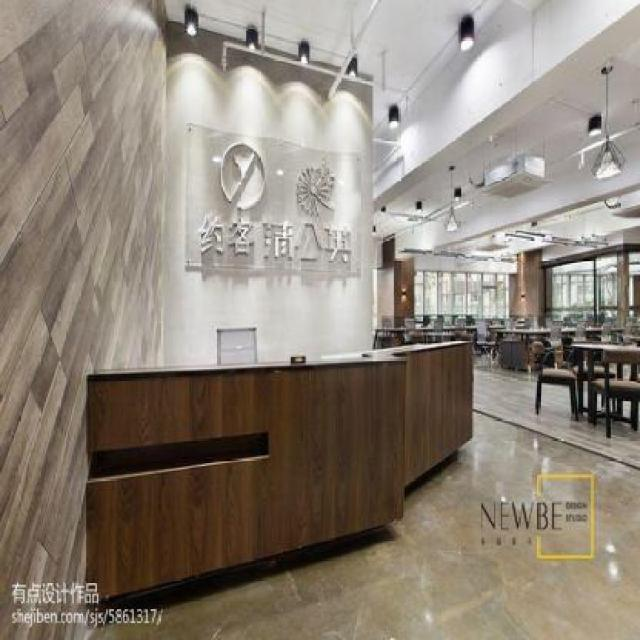frontdesk: (63, 330, 481, 628)
